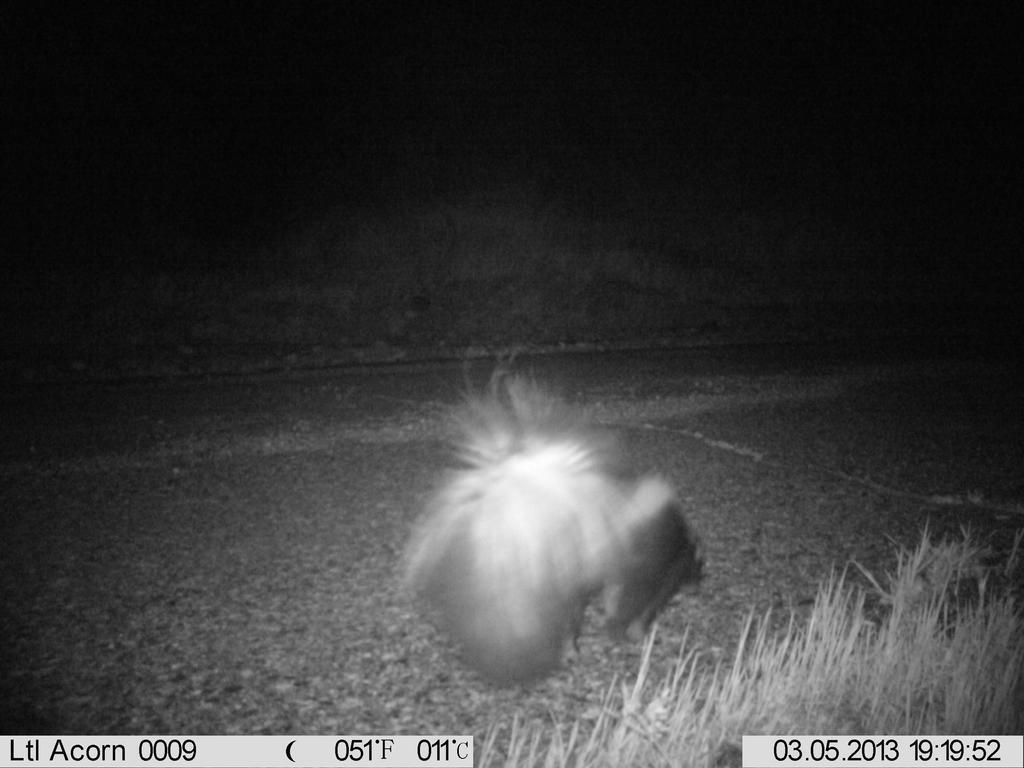skunk: (399, 356, 712, 692)
